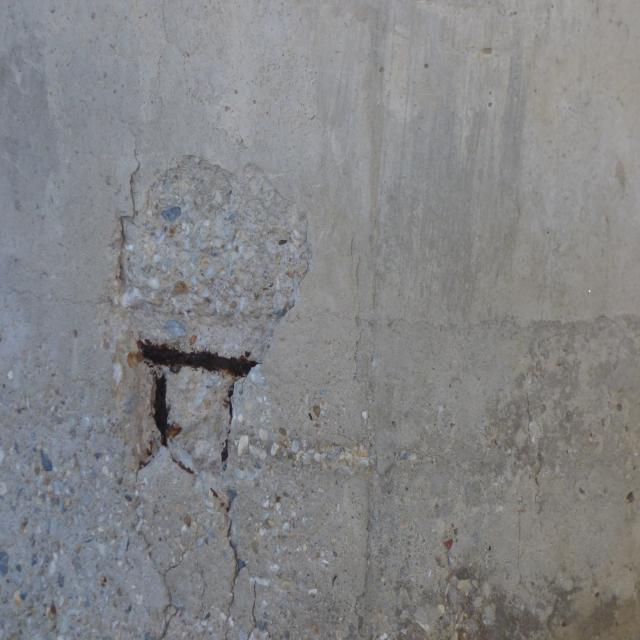corrosion: (118, 324, 271, 471)
